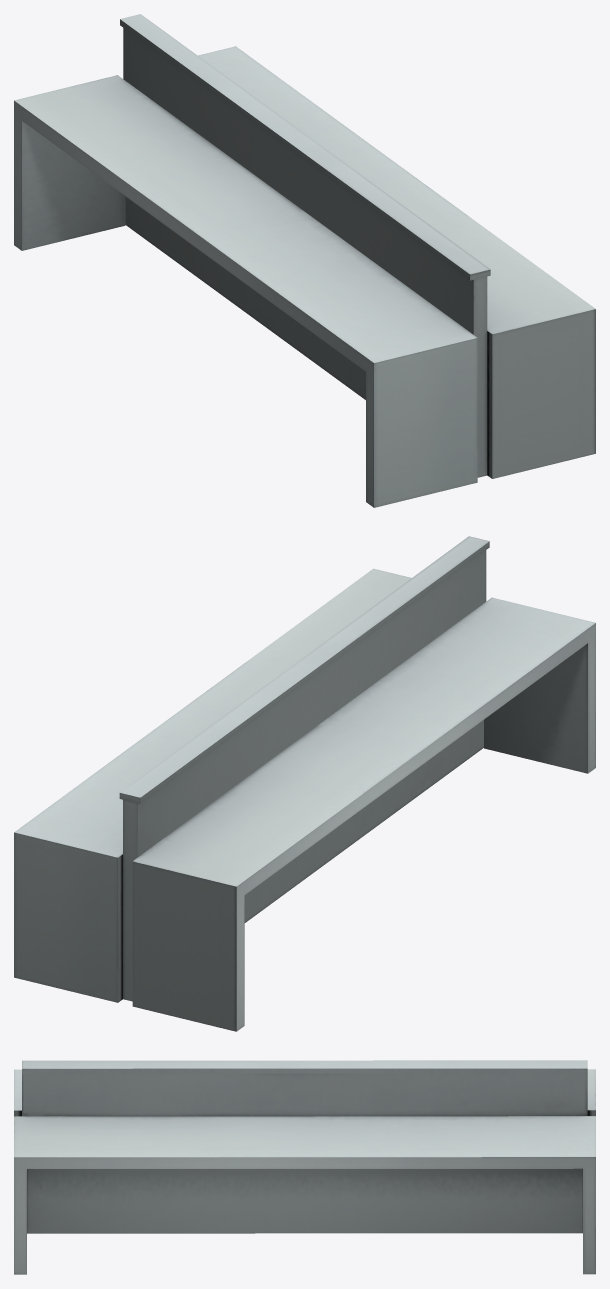
Rendered from 3DGJ_chksh_zhzibg_xp_wmr_DT_002.FBX.
3 views of the same model, one above another, from view 1: azimuth 30°, elevation 25°; view 2: azimuth 150°, elevation 25°; view 3: azimuth 270°, elevation 25° (orthographic). The views are drawn at different scales.
Visible parts, largest first — view 1: J_chksh_zhzibg_xp_wmrz_a; view 2: J_chksh_zhzibg_xp_wmrz_a; view 3: J_chksh_zhzibg_xp_wmrz_a.
Boxes of the visible parts, box(x1,y1,x2,y2) form: J_chksh_zhzibg_xp_wmrz_a: box(14, 14, 595, 507); J_chksh_zhzibg_xp_wmrz_a: box(14, 536, 595, 1031); J_chksh_zhzibg_xp_wmrz_a: box(14, 1060, 595, 1274).
Size of the model in its own units: 1.29 by 1.13 by 3.6.
